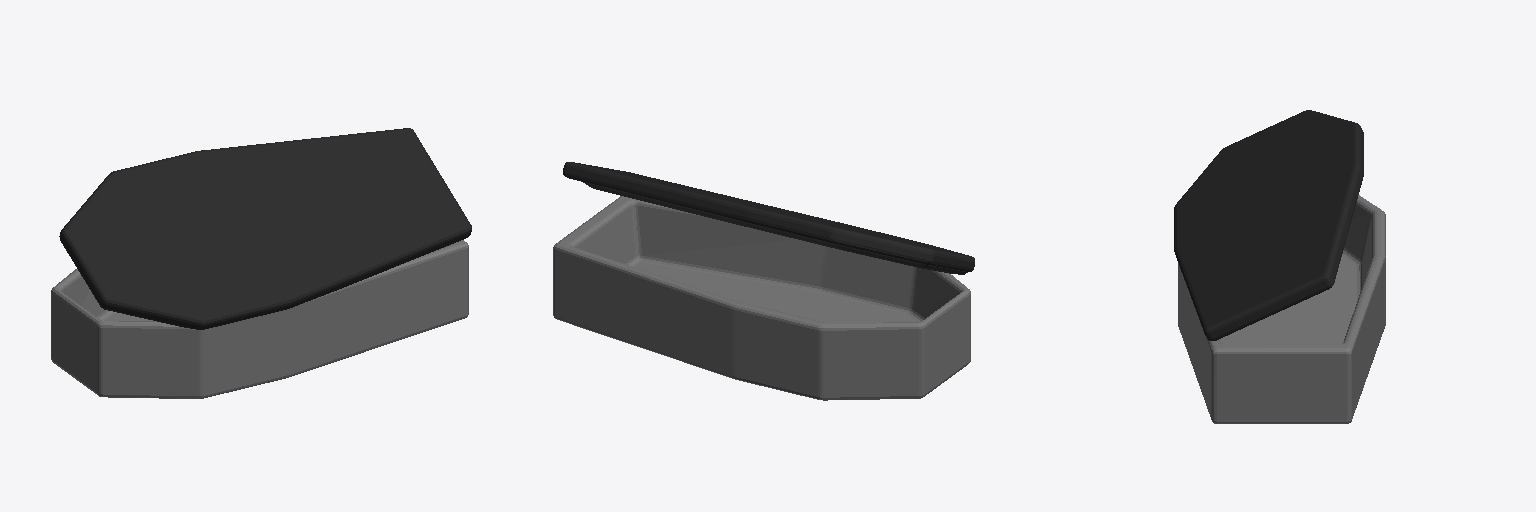
Rendered from prop_coffin.obj.
3 renders of one model, left to right at view 1: azimuth 30°, elevation 25°; view 2: azimuth 150°, elevation 25°; view 3: azimuth 270°, elevation 25°, orthographic.
Visible parts, largest first — view 1: pasted__pCube1 group, pCube1; view 2: pCube1, pasted__pCube1 group; view 3: pasted__pCube1 group, pCube1.
Part boxes in pixels (x1,y1,x2,y2): pasted__pCube1 group: (59, 128, 471, 329); pCube1: (51, 240, 468, 398); pCube1: (553, 196, 970, 400); pasted__pCube1 group: (563, 162, 974, 274); pasted__pCube1 group: (1174, 110, 1363, 340); pCube1: (1178, 195, 1385, 423).
Size of the model in its own units: 6 by 2.59 by 3.05.